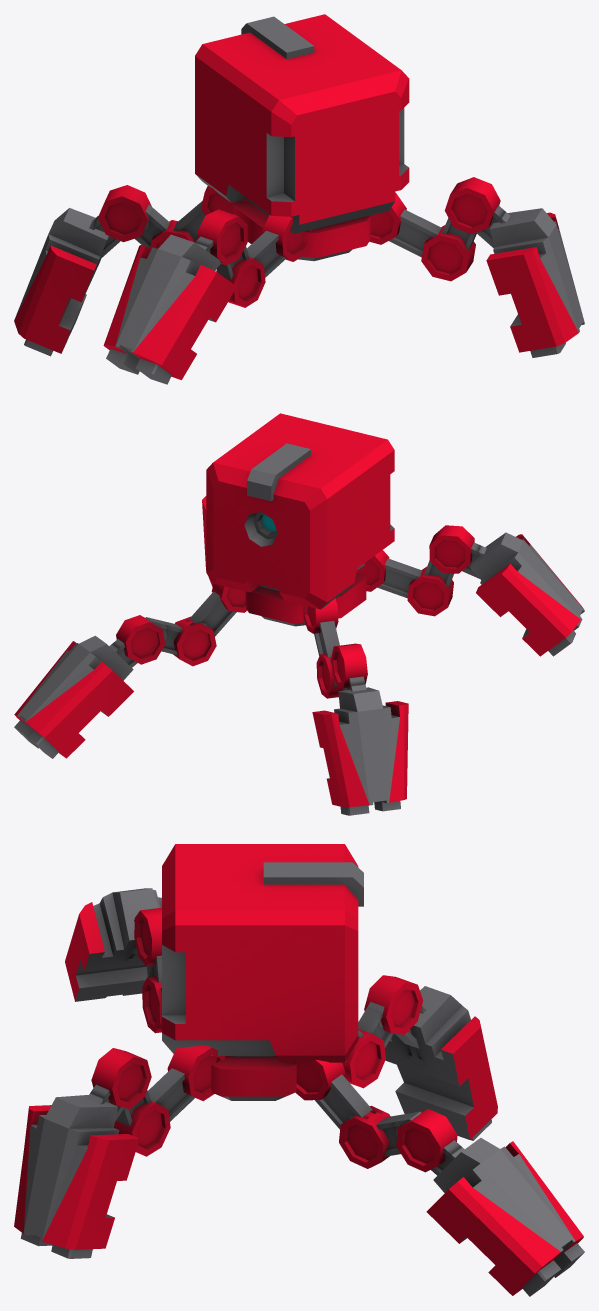
The model's file is Monster1_Move18.obj.
3 renders of one model, top to bottom at view 1: azimuth 30°, elevation 25°; view 2: azimuth 150°, elevation 25°; view 3: azimuth 270°, elevation 25°, orthographic. The views are drawn at different scales.
Visible parts, largest first — view 1: Box006, Object021, Object017, Object025, Object020, Object028, Object018, Object019, Object022, Object024, Object023, Object026 (+1 smaller); view 2: Box006, Object025, Object013, Object021, Object015, Object024, Object016, Object023, Object022, Object014, Object028, Object026 (+1 smaller); view 3: Box006, Object017, Object013, Object025, Object021, Object018, Object014, Object016, Object015, Object020, Object028, Object027 (+3 smaller).
Boxes of the visible parts, box(x1,y1,x2,y2) form: Box006: box(195, 14, 409, 261); Object021: box(103, 234, 236, 384); Object017: box(486, 208, 584, 357); Object025: box(14, 208, 108, 356); Object020: box(444, 177, 509, 248); Object028: box(89, 185, 151, 259); Object018: box(369, 192, 441, 257); Object019: box(421, 218, 476, 281); Object022: box(247, 215, 313, 277); Object024: box(195, 209, 247, 267); Object023: box(216, 246, 265, 307); Object026: box(173, 186, 247, 241); Box006: box(206, 413, 394, 626); Object025: box(312, 687, 408, 815); Object013: box(14, 635, 133, 758); Object021: box(470, 532, 584, 656); Object015: box(145, 616, 216, 666); Object024: box(429, 525, 486, 578); Object016: box(109, 615, 165, 667); Object023: box(407, 560, 454, 616); Object022: box(356, 550, 422, 598); Object014: box(189, 583, 247, 636); Object028: box(331, 643, 367, 691); Object026: box(303, 598, 339, 657); Box006: box(162, 844, 363, 1100); Object017: box(14, 1095, 139, 1258); Object013: box(426, 1138, 584, 1296); Object025: box(385, 986, 497, 1140); Object021: box(65, 888, 161, 1001); Object018: box(148, 1045, 225, 1121); Object014: box(290, 1059, 372, 1129); Object016: box(396, 1109, 464, 1175); Object015: box(339, 1105, 421, 1168); Object020: box(86, 1048, 151, 1121); Object028: box(364, 975, 426, 1048); Object027: box(342, 1002, 393, 1088).
Bounding box in the file's own units: 174 × 116 × 172.
